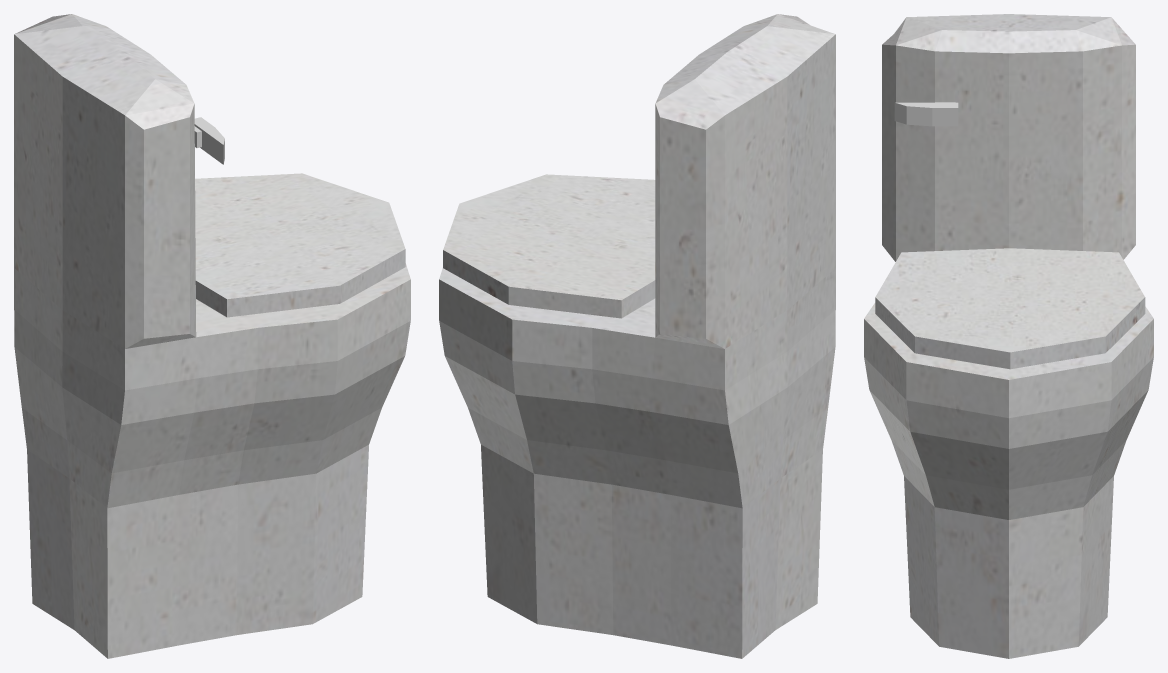
File: toilet.fbx
3 views of the same model, side by side, from view 1: azimuth 30°, elevation 25°; view 2: azimuth 150°, elevation 25°; view 3: azimuth 270°, elevation 25° (orthographic). The views are drawn at different scales.
Visible parts, largest first — view 1: Base_Inodoro; view 2: Base_Inodoro; view 3: Base_Inodoro.
Boxes of the visible parts, x1,y1,x2,y2 form: Base_Inodoro: [14, 14, 410, 658]; Base_Inodoro: [439, 14, 835, 658]; Base_Inodoro: [864, 14, 1153, 658].
Bounding box in the file's own units: 119 × 194 × 97.45.
